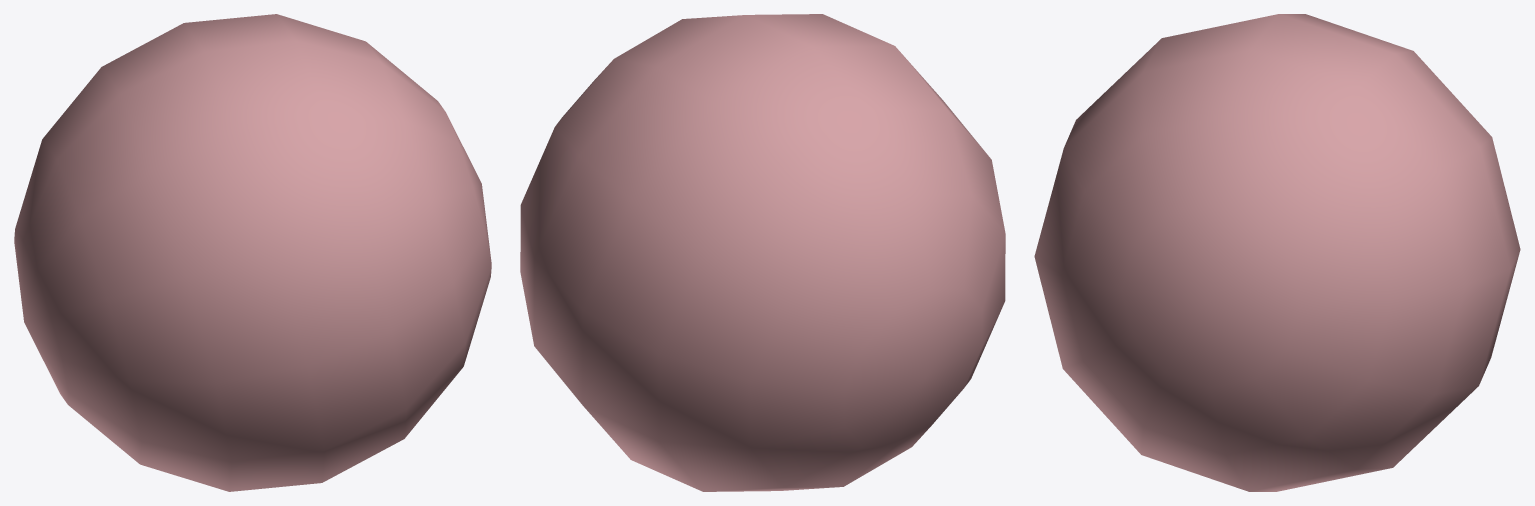
The picture shows the model from 3 angles, left to right: view 1: azimuth 30°, elevation 25°; view 2: azimuth 150°, elevation 25°; view 3: azimuth 270°, elevation 25°; orthographic projection. The views are drawn at different scales.
Visible parts, largest first — view 1: ZA_58221951b2da16c9; view 2: ZA_58221951b2da16c9; view 3: ZA_58221951b2da16c9.
Part boxes in pixels (x1=…): ZA_58221951b2da16c9: x1=14, y1=14, x2=491, y2=491; ZA_58221951b2da16c9: x1=520, y1=14, x2=1005, y2=491; ZA_58221951b2da16c9: x1=1034, y1=14, x2=1520, y2=491.
Size of the model in its own units: 0.0026 by 0.00256 by 0.00259.
